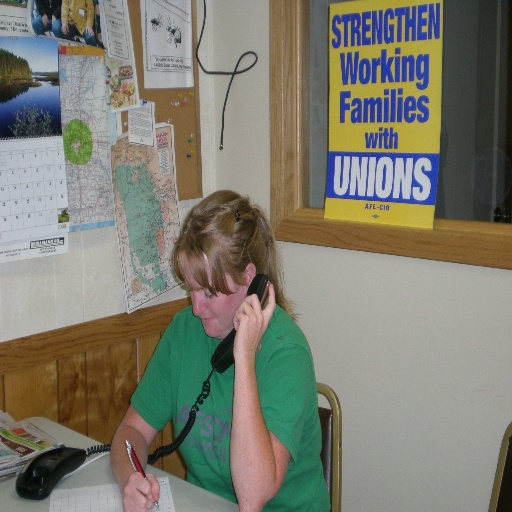hand: (232, 286, 277, 354), (120, 470, 160, 511)
